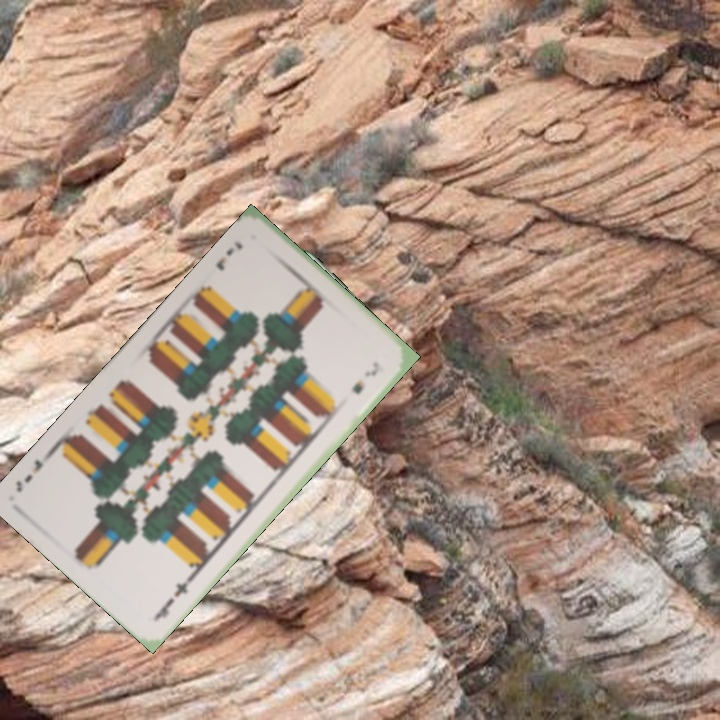E7: (150, 572, 196, 622), (211, 237, 245, 273)
